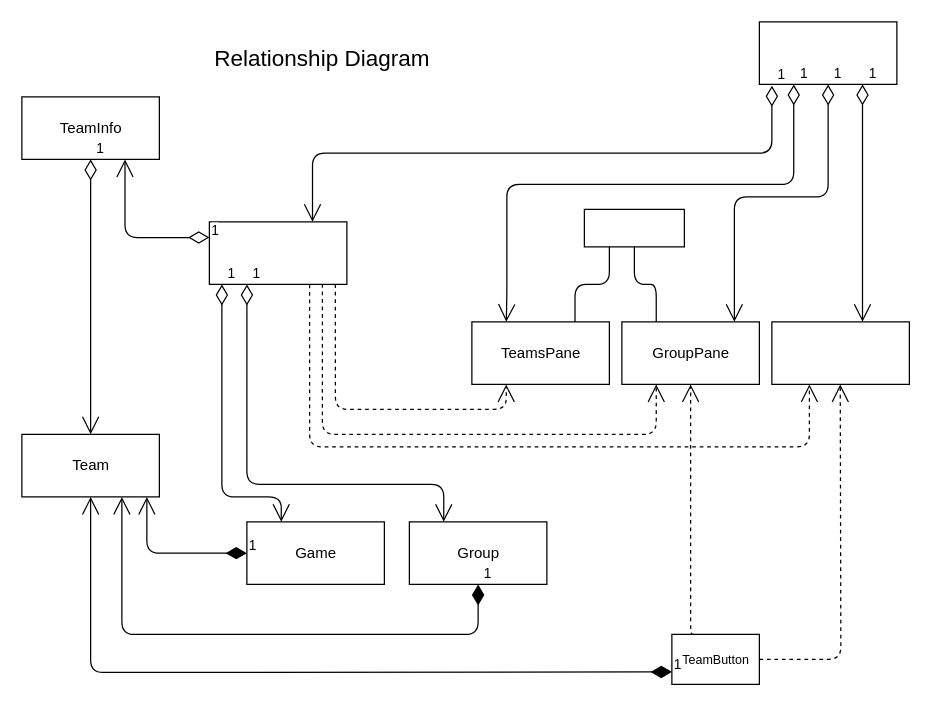
Image size: 931x716. Some labels were removed from this diagram. The centre of each missing label's shape, as x and y in pixels:
"KnockoutPane" belongs at point (840, 352).
"Simulator" belongs at point (277, 252).
"TableViewHelper" belongs at point (633, 227).
"WorldCupGUI" belongs at point (827, 52).
